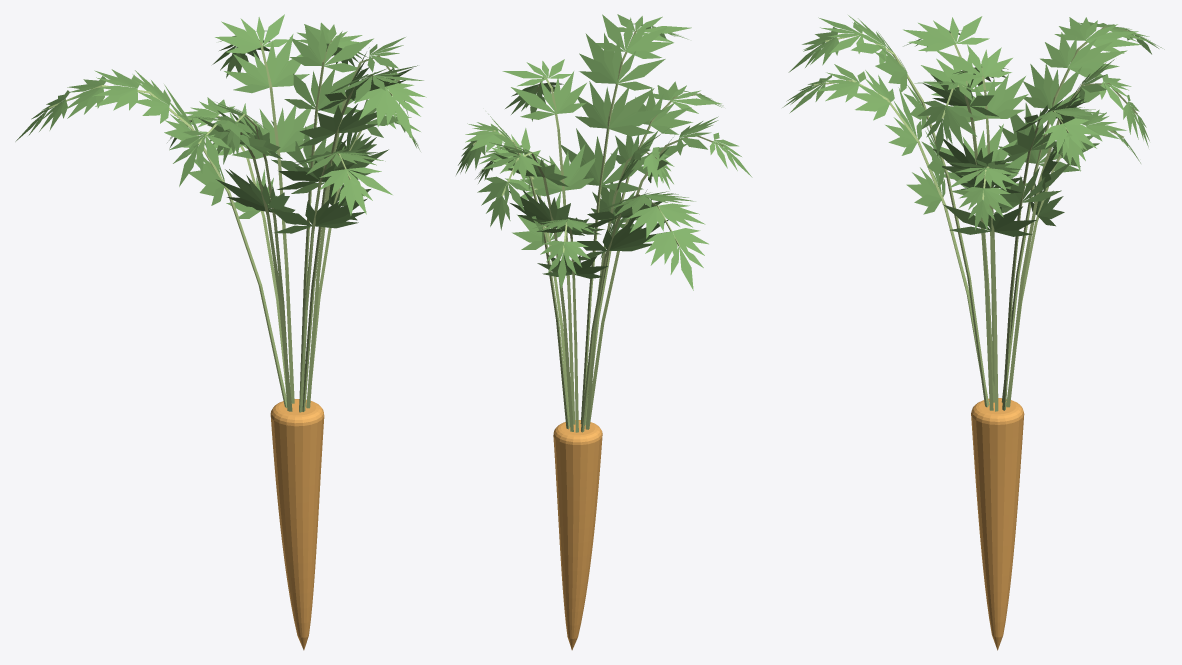
Rendered from carrot_v19.glb.
3 views of the same model, side by side, from view 1: azimuth 30°, elevation 25°; view 2: azimuth 150°, elevation 25°; view 3: azimuth 270°, elevation 25° (orthographic). The views are drawn at different scales.
Visible parts, largest first — view 1: leaves, petioles, root; view 2: leaves, petioles, root; view 3: leaves, root, petioles.
Part boxes in pixels (x1,y1,x2,y2): leaves: (15, 14, 426, 233); petioles: (49, 40, 399, 412); root: (270, 399, 324, 650); leaves: (456, 14, 752, 290); petioles: (473, 30, 723, 432); root: (553, 420, 602, 650); leaves: (782, 15, 1164, 236); root: (971, 398, 1024, 650); petioles: (813, 26, 1137, 411).
Size of the model in its own units: 0.2509 by 0.4765 by 0.2666.
